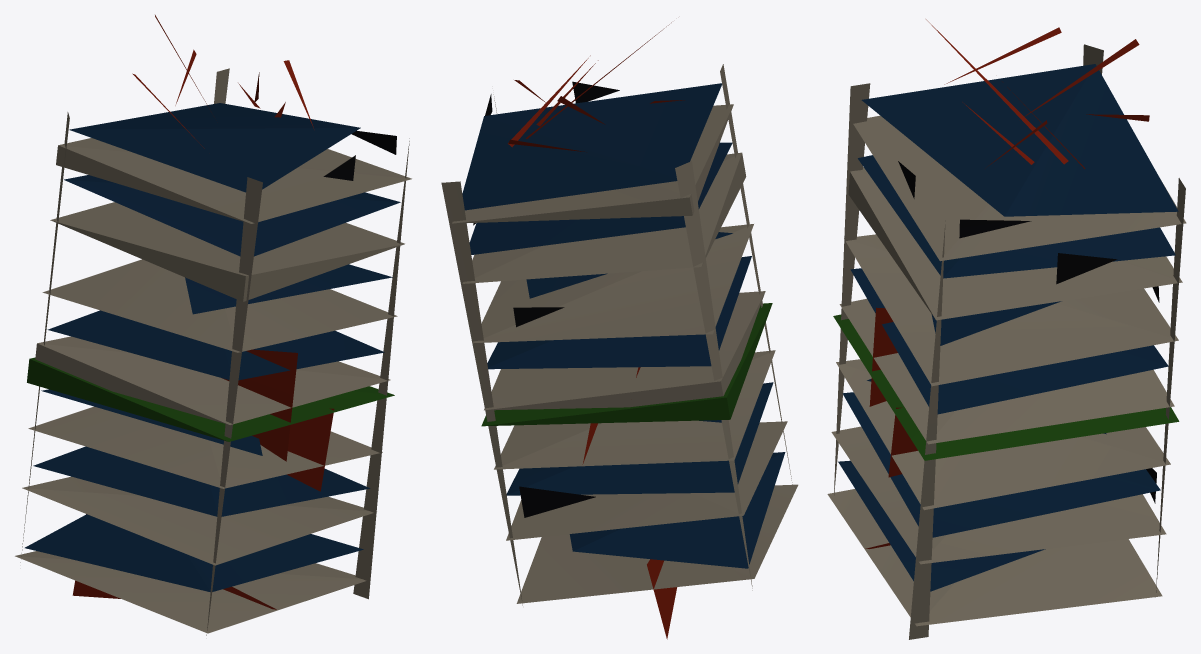
File: tb_tower_stump.three-web-toon.lod25.glb
3 renders of one model, left to right at view 1: azimuth 30°, elevation 25°; view 2: azimuth 150°, elevation 25°; view 3: azimuth 270°, elevation 25°, orthographic. The views are drawn at different scales.
Parts seen in each view (by area): view 1: tower_stump_body_lod; view 2: tower_stump_body_lod; view 3: tower_stump_body_lod.
Part boxes in pixels (x1=…): tower_stump_body_lod: x1=15, y1=15, x2=411, y2=635; tower_stump_body_lod: x1=441, y1=22, x2=798, y2=639; tower_stump_body_lod: x1=827, y1=19, x2=1186, y2=639.
Size of the model in its own units: 18.19 by 29.3 by 16.42.
